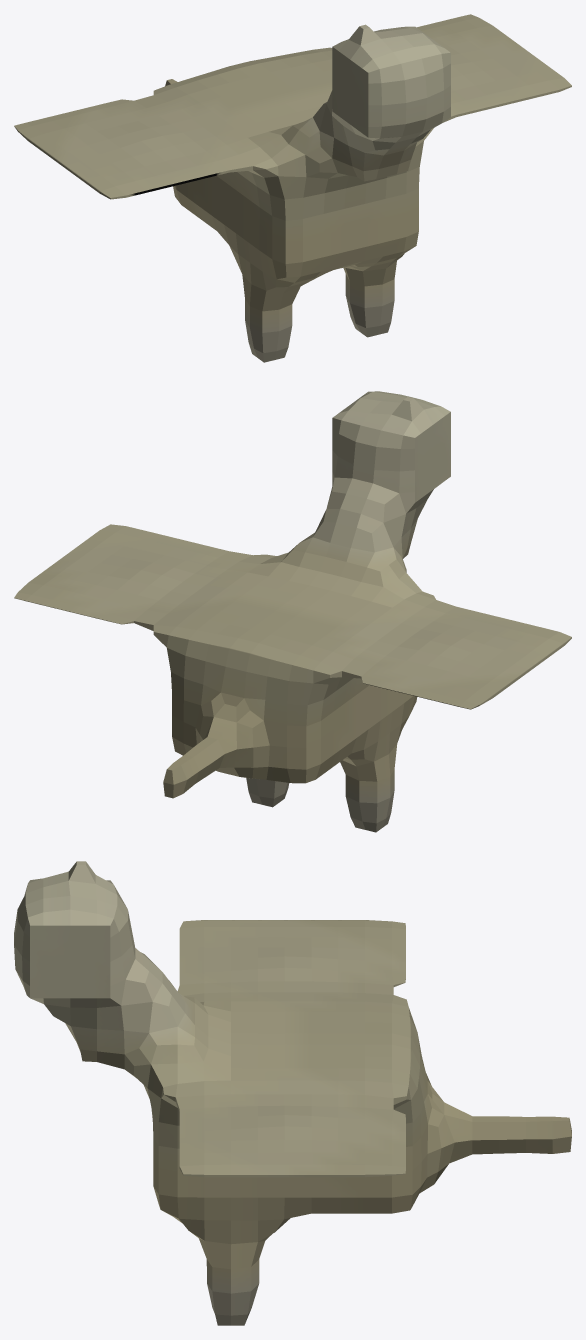
The model's file is chimera.glb.
3 views of the same model, one above another, from view 1: azimuth 30°, elevation 25°; view 2: azimuth 150°, elevation 25°; view 3: azimuth 270°, elevation 25° (orthographic). The views are drawn at different scales.
Visible parts, largest first — view 1: geometry_0; view 2: geometry_0; view 3: geometry_0.
Boxes of the visible parts, bbox=[...] form: geometry_0: bbox=[14, 14, 571, 362]; geometry_0: bbox=[14, 391, 571, 832]; geometry_0: bbox=[14, 861, 571, 1325].
Bounding box in the file's own units: 1.25 × 0.9519 × 1.16.
Materials: 1 (1 with a texture image).
